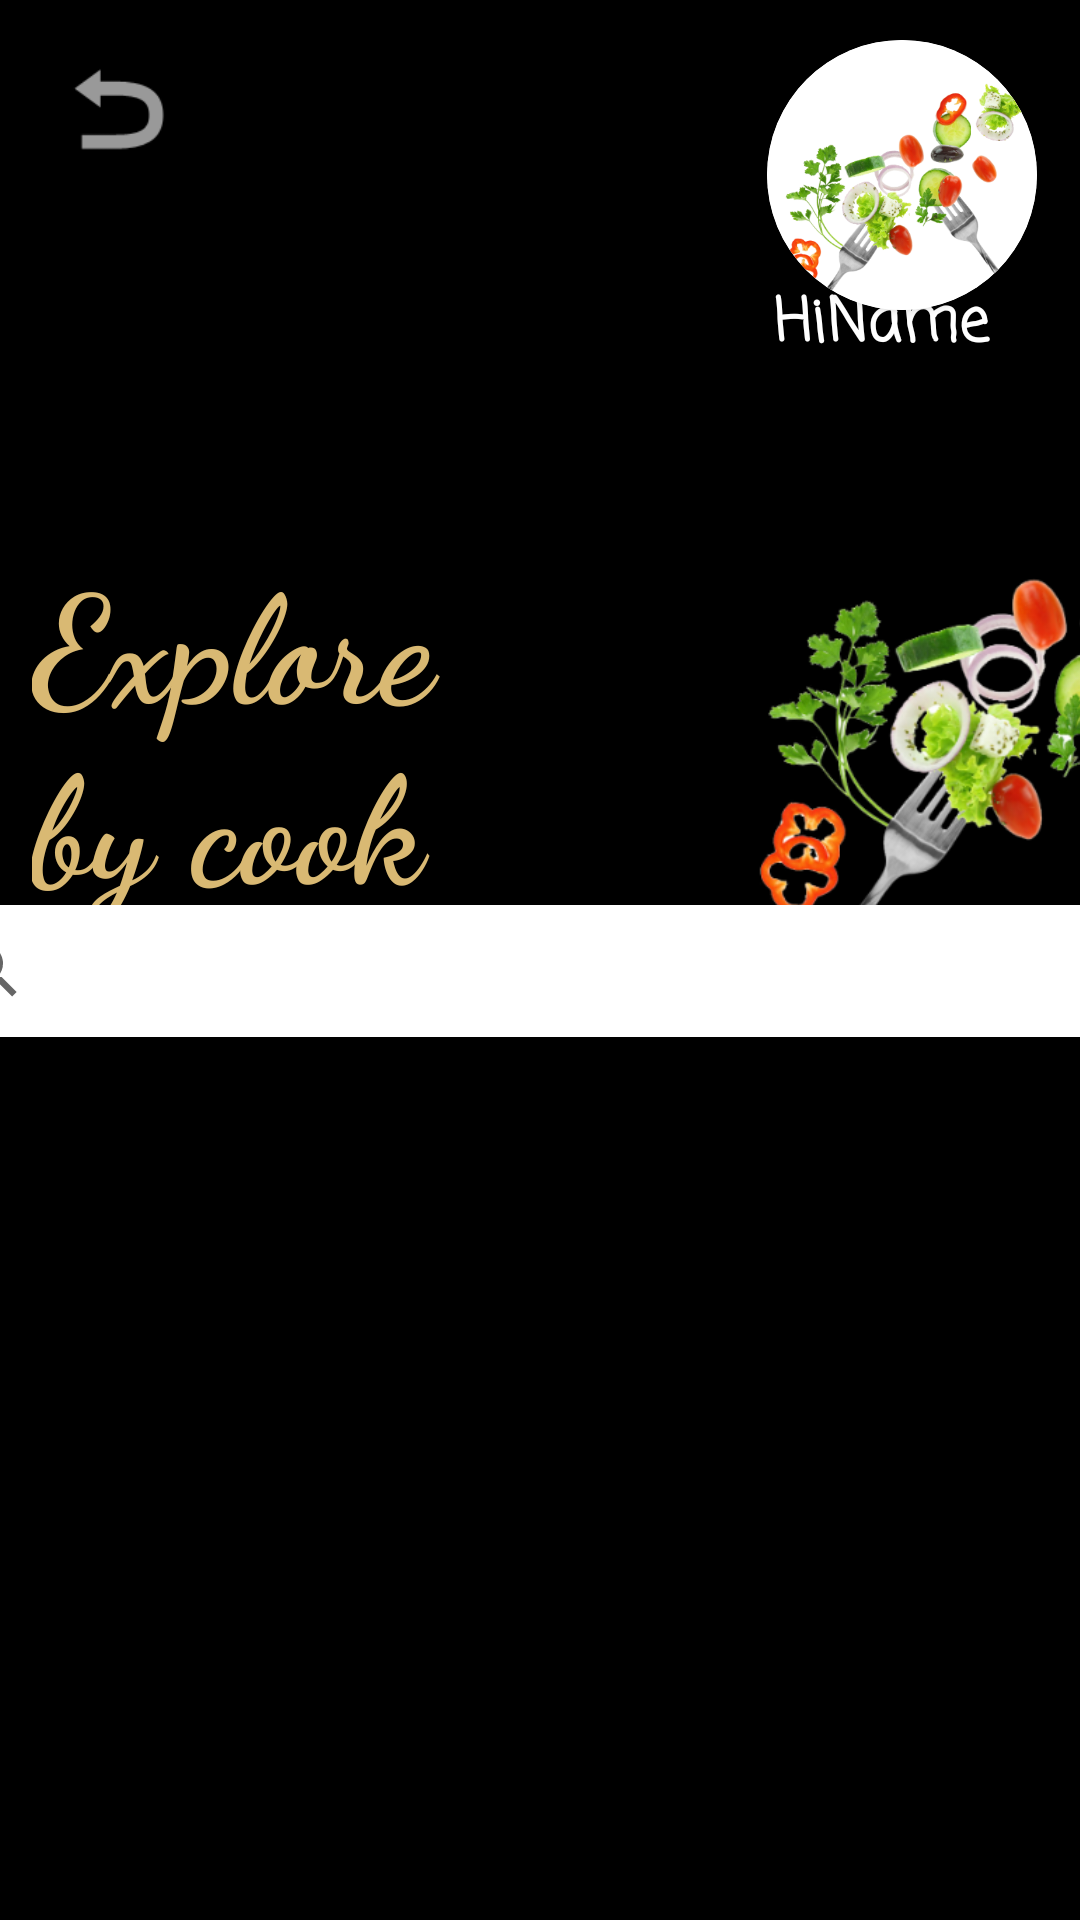

Where to tap for icons on this 1080px×1920px app screen, as point (x, y):
revert: point (119, 109)
